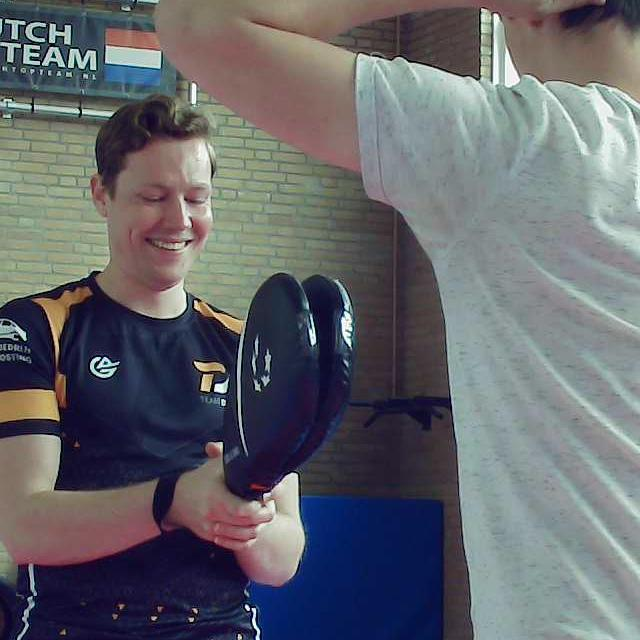paddle: (218, 272, 360, 504)
